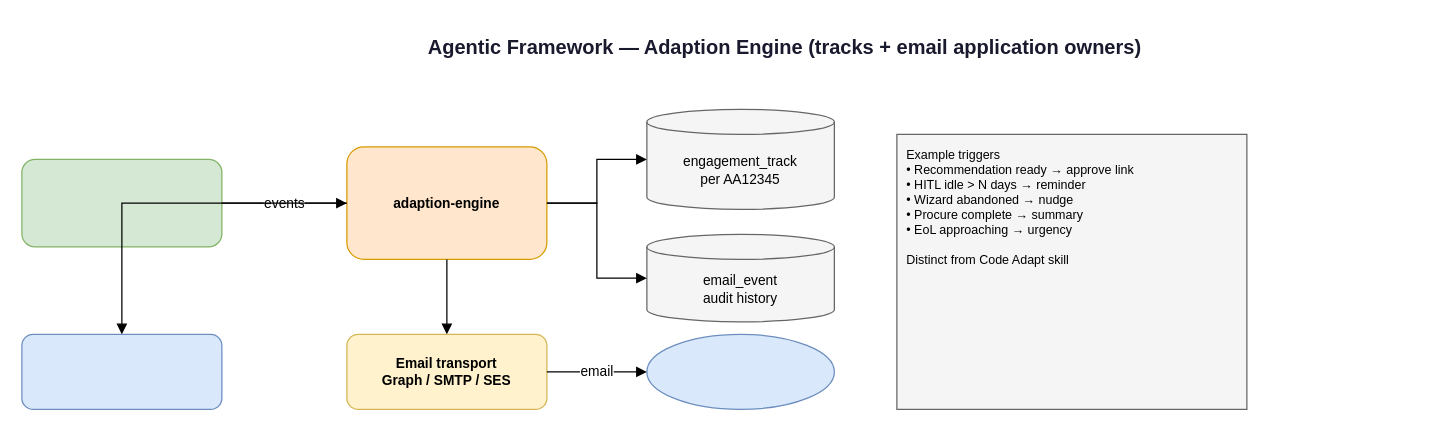
Some shapes in this 1431 by 431 pixel diagram are drawn without their labels. Each missing label, with the centre of its shape:
"Application owners" goes at pixel 740 371.
"job-service lifecycle events" goes at pixel 121 202.
"UI engagement status" goes at pixel 121 371.
